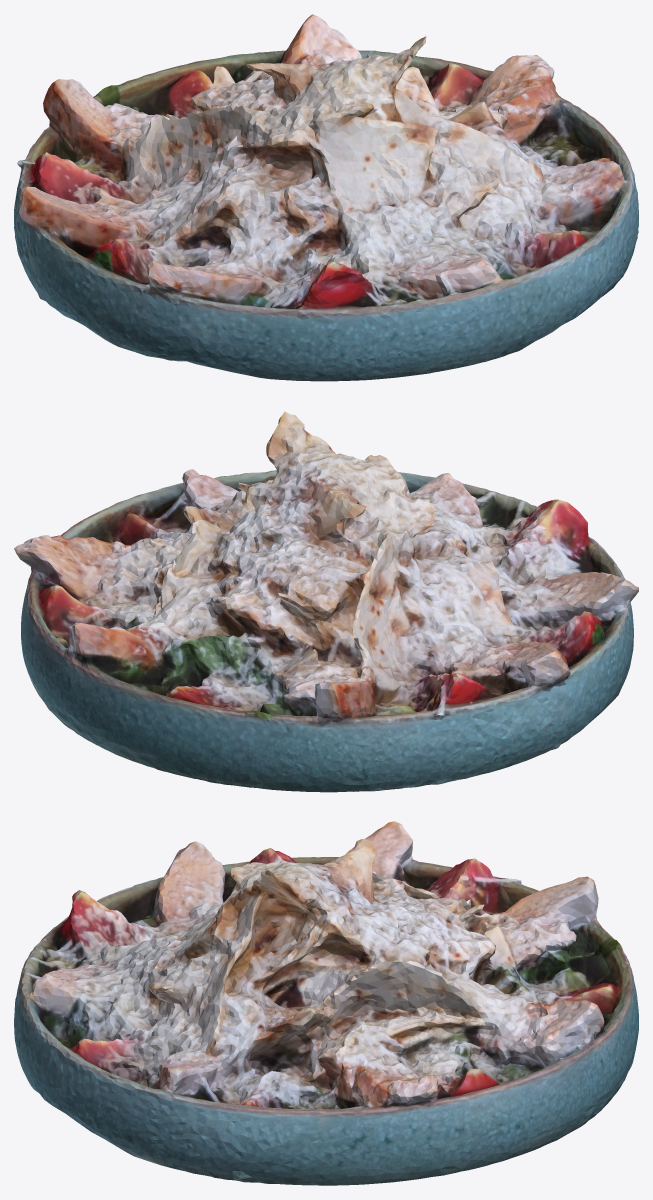
Rendered from chicken salad.glb.
The picture shows the model from 3 angles, top to bottom: view 1: azimuth 30°, elevation 25°; view 2: azimuth 150°, elevation 25°; view 3: azimuth 270°, elevation 25°; orthographic projection. The views are drawn at different scales.
Parts seen in each view (by area): view 1: object 1; view 2: object 1; view 3: object 1.
Boxes of the visible parts, x1,y1,x2,y2 form: object 1: (14,14,638,381); object 1: (14,411,638,792); object 1: (14,821,638,1185).
Size of the model in its own units: 0.3544 by 0.1374 by 0.3487.
Materials: 2 (1 with a texture image).
